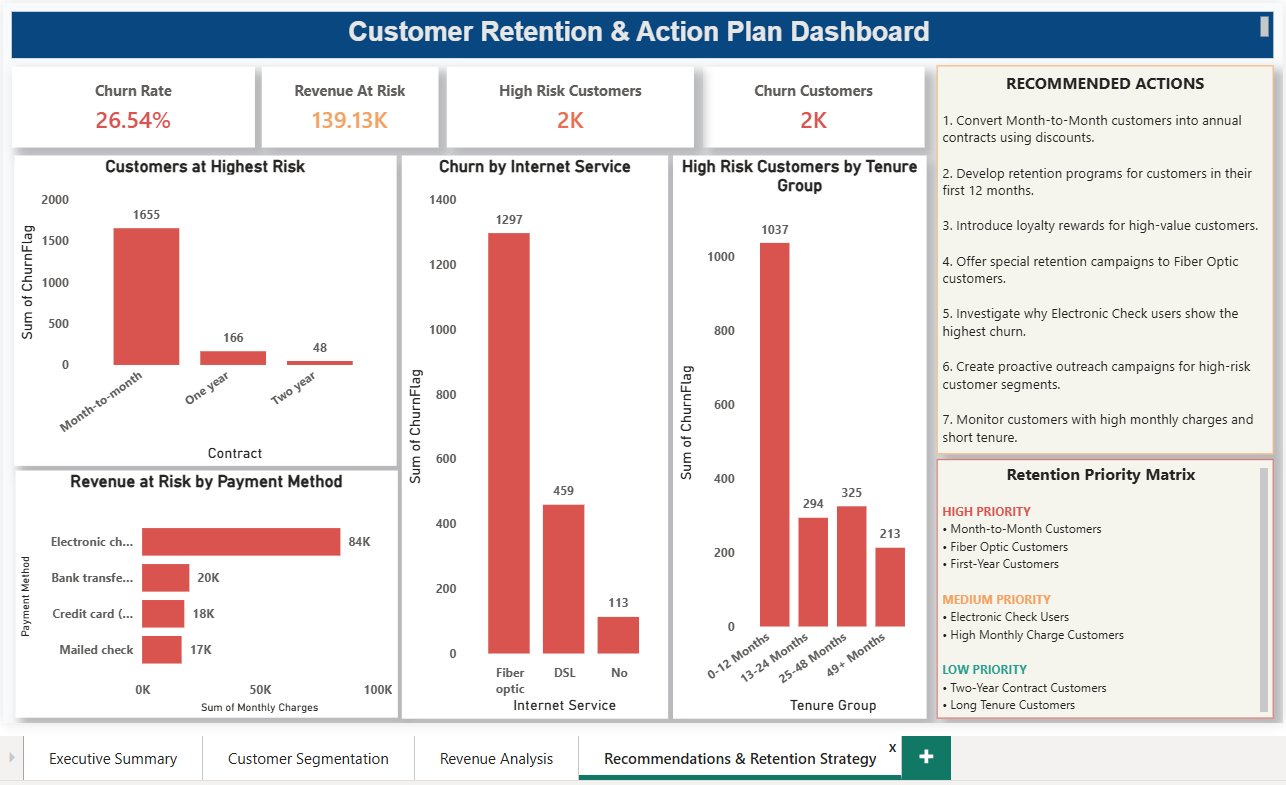

Layout of this report page (visuals, bound fields, positions):
{"tool":"powerbi","page":{"name":"Recommendations & Retention Strategy","canvas":[1280,720],"ordinal":3},"visuals":[{"type":"cardVisual","fields":{"Data":["Measures (2).Churn Rate"]},"box":[9,64.1,243.6,80.8],"z":0},{"type":"textbox","box":[9,9,1261.5,46.2],"z":1},{"type":"cardVisual","fields":{"Data":["Measures (2).Churn Customers"]},"box":[700,64.1,221.8,80.8],"z":2},{"type":"cardVisual","fields":{"Data":["Measures (2).Revenue At Risk"]},"box":[259,64.1,176.9,80.8],"z":3},{"type":"cardVisual","fields":{"Data":["Measures (2).High Risk Customers"]},"box":[443.6,64.1,247.4,80.8],"z":4},{"type":"clusteredColumnChart","title":"Customers at Highest Risk","fields":{"Category":["telecom_churn fact_customer_churn.Contract"],"Y":["Sum(telecom_churn fact_customer_churn.ChurnFlag)"]},"box":[11.5,152.6,382.1,310.3],"z":5},{"type":"clusteredBarChart","title":"Revenue at Risk by Payment Method","fields":{"Category":["telecom_churn fact_customer_churn.PaymentMethod"],"Y":["Sum(telecom_churn fact_customer_churn.MonthlyCharges)"]},"box":[12.8,467.9,382.1,247.4],"z":6},{"type":"clusteredColumnChart","title":"Churn by Internet Service","fields":{"Category":["telecom_churn fact_customer_churn.InternetService"],"Y":["Sum(telecom_churn fact_customer_churn.ChurnFlag)"]},"box":[398.7,152.6,266.7,562.8],"z":7},{"type":"clusteredColumnChart","title":"High Risk Customers by Tenure Group","fields":{"Category":["telecom_churn fact_customer_churn.TenureGroup"],"Y":["Sum(telecom_churn fact_customer_churn.ChurnFlag)"]},"box":[670.5,152.6,253.8,562.8],"z":8},{"type":"textbox","box":[933.3,62.8,337.2,388.5],"z":9},{"type":"textbox","box":[933.3,456.4,337.2,259],"z":10}]}

Visuals, with their boxes on the page's 1280x720 design canvas (x1, y1, x2, y2). These are canvas units, not pixel positions in the 1286x785 screenshot, which may show the page scaled, cropped or inside an application window:
cardVisual - Measures (2).Churn Rate: 9, 64, 253, 145
textbox: 9, 9, 1270, 55
cardVisual - Measures (2).Churn Customers: 700, 64, 922, 145
cardVisual - Measures (2).Revenue At Risk: 259, 64, 436, 145
cardVisual - Measures (2).High Risk Customers: 444, 64, 691, 145
"Customers at Highest Risk" clusteredColumnChart: 12, 153, 394, 463
"Revenue at Risk by Payment Method" clusteredBarChart: 13, 468, 395, 715
"Churn by Internet Service" clusteredColumnChart: 399, 153, 665, 715
"High Risk Customers by Tenure Group" clusteredColumnChart: 670, 153, 924, 715
textbox: 933, 63, 1270, 451
textbox: 933, 456, 1270, 715
